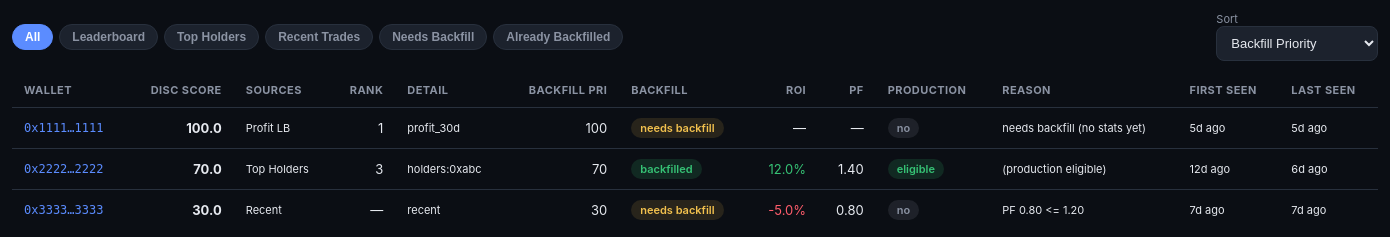
Test case: DiscoveryCandidatesTable › filters to Leaderboard
Click the button "Leaderboard" at (109, 36), box 59,24 -> 158,50
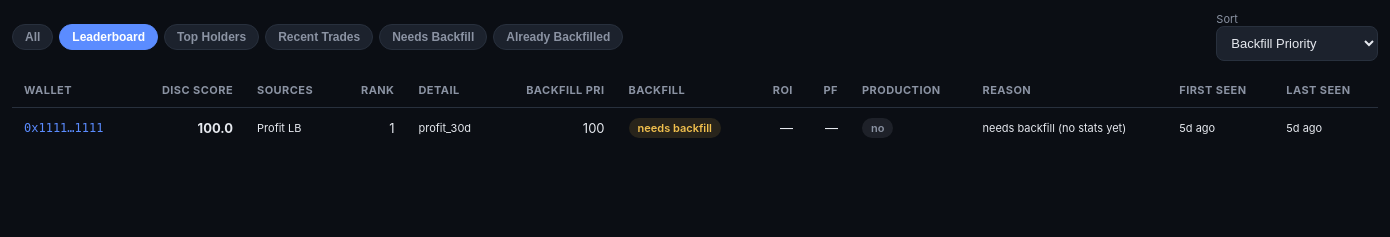
expect the number of rows with test id "discovery-row" is 1: met, box 12,108 -> 1378,148
